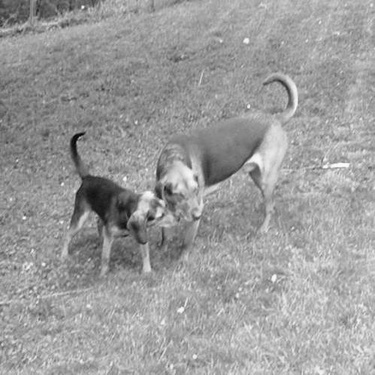dog: (153, 60, 299, 267), (58, 123, 181, 287)
